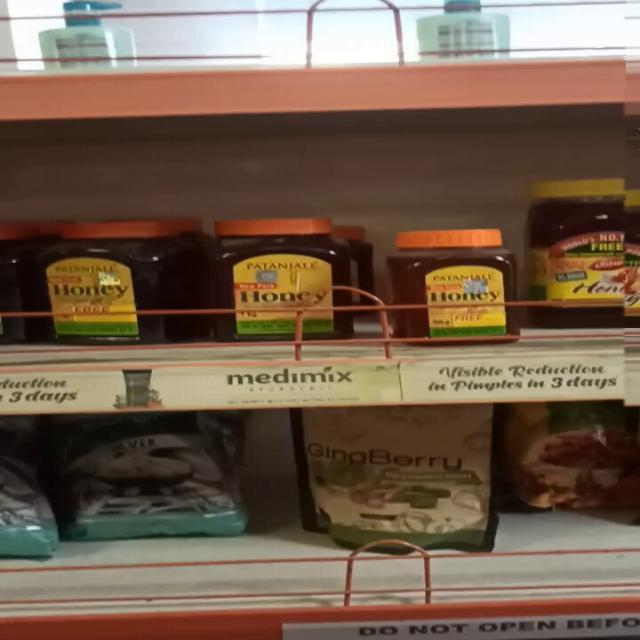Patanjali Honey: (44, 217, 190, 346), (202, 212, 352, 336), (379, 225, 519, 340)
